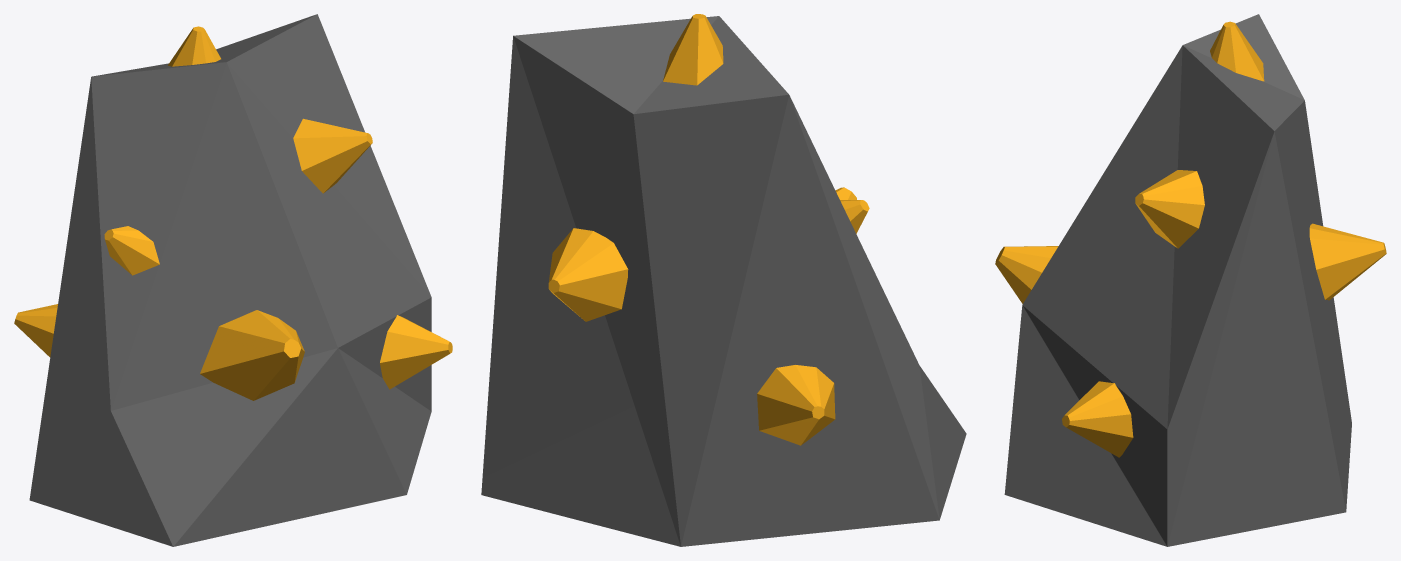
File: Prop_Ore_Node_Yellow_02.fbx
3 views of the same model, side by side, from view 1: azimuth 30°, elevation 25°; view 2: azimuth 150°, elevation 25°; view 3: azimuth 270°, elevation 25° (orthographic). The views are drawn at different scales.
Parts seen in each view (by area): view 1: Prop_Ore_Node_Yellow_02; view 2: Prop_Ore_Node_Yellow_02; view 3: Prop_Ore_Node_Yellow_02.
Part boxes in pixels (x1,y1,x2,y2): Prop_Ore_Node_Yellow_02: (14,14,452,546); Prop_Ore_Node_Yellow_02: (481,14,966,546); Prop_Ore_Node_Yellow_02: (995,14,1386,546).
Size of the model in its own units: 930 by 1027 by 781.
